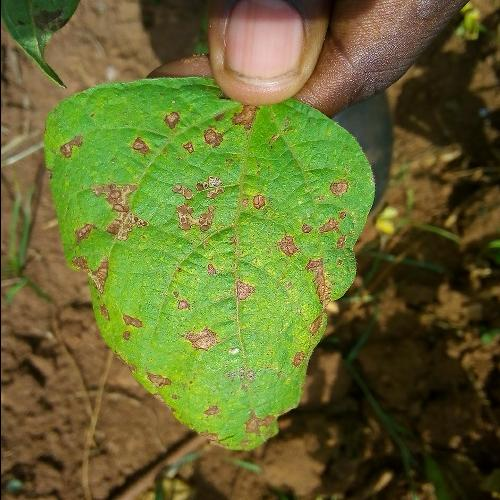hawar: (145, 104, 301, 403), (64, 105, 140, 252), (307, 158, 366, 246), (98, 268, 139, 346), (310, 251, 342, 319)
